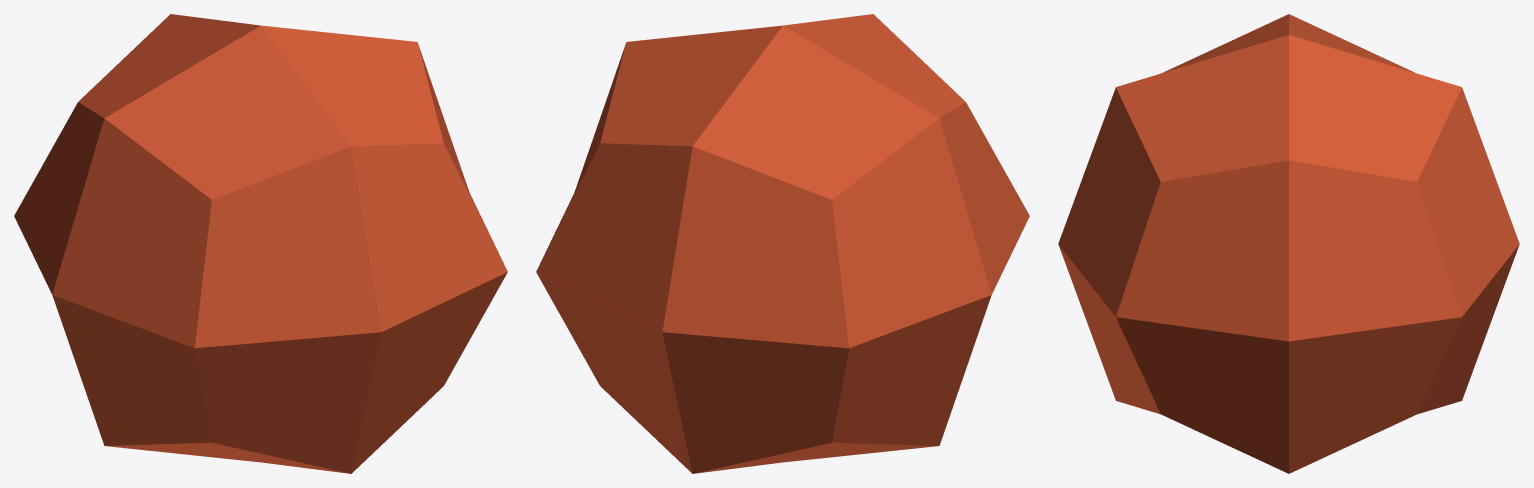
Rendered from inferno-particle.fbx.
3 views of the same model, side by side, from view 1: azimuth 30°, elevation 25°; view 2: azimuth 150°, elevation 25°; view 3: azimuth 270°, elevation 25° (orthographic). The views are drawn at different scales.
Visible parts, largest first — view 1: Cube; view 2: Cube; view 3: Cube.
Boxes of the visible parts, x1,y1,x2,y2 form: Cube: [14, 14, 507, 473]; Cube: [536, 14, 1029, 473]; Cube: [1058, 14, 1519, 473].
Size of the model in its own units: 200 by 200 by 200.
